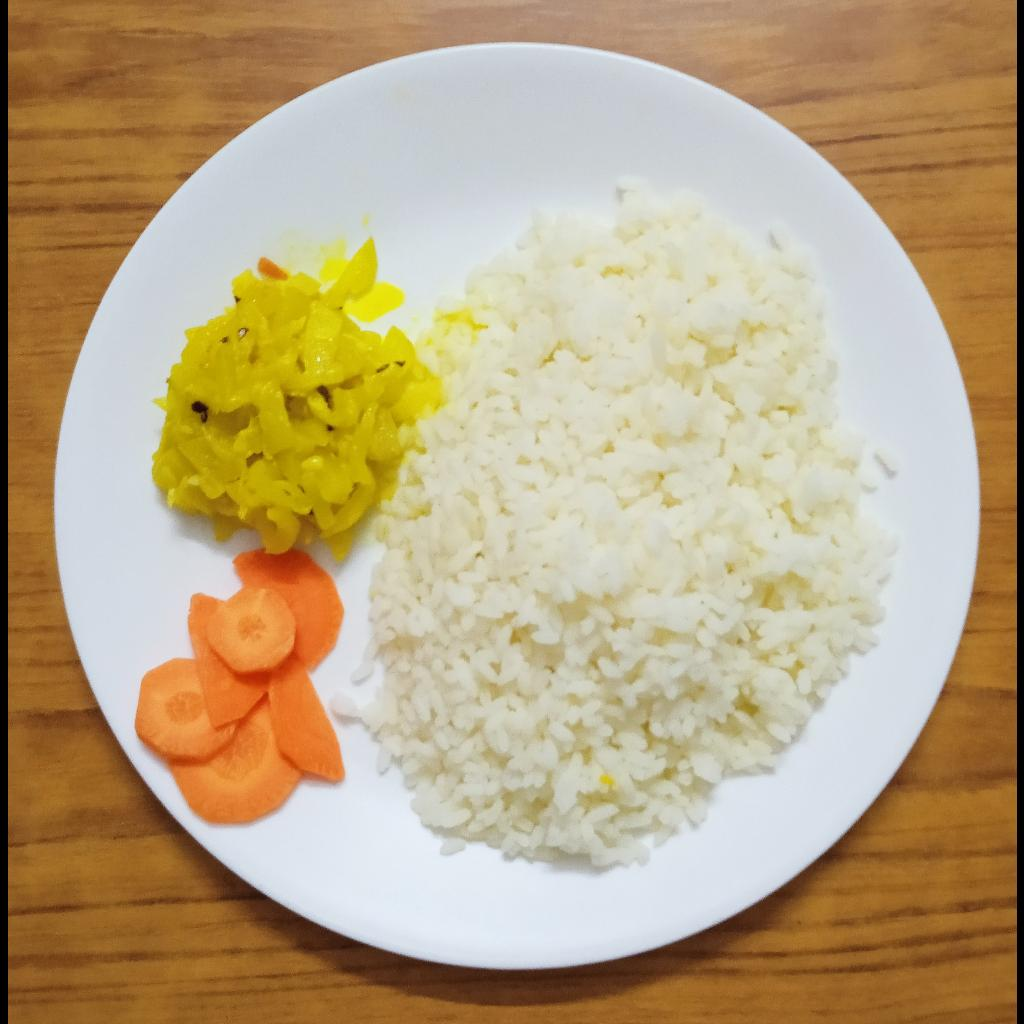carrot: (135, 546, 346, 824)
papaya: (144, 231, 434, 564)
rice: (335, 184, 897, 874)
